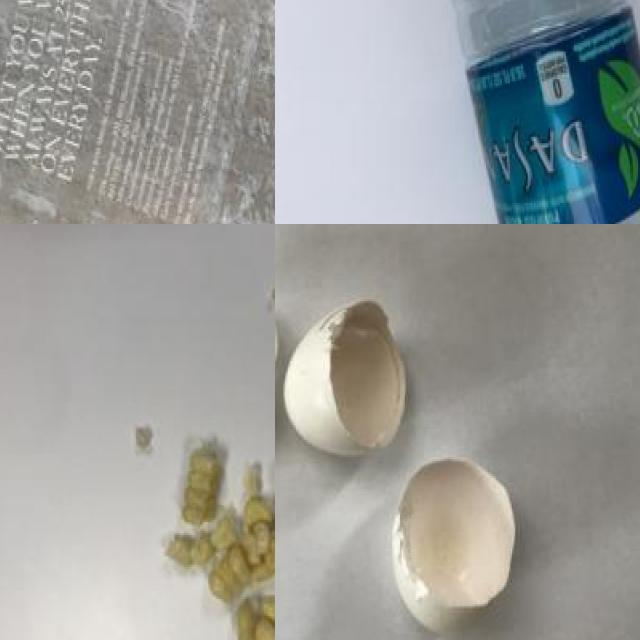compost: (275, 270, 537, 621), (149, 423, 275, 640)
paper: (0, 0, 275, 224)
plastic: (430, 0, 640, 224)
